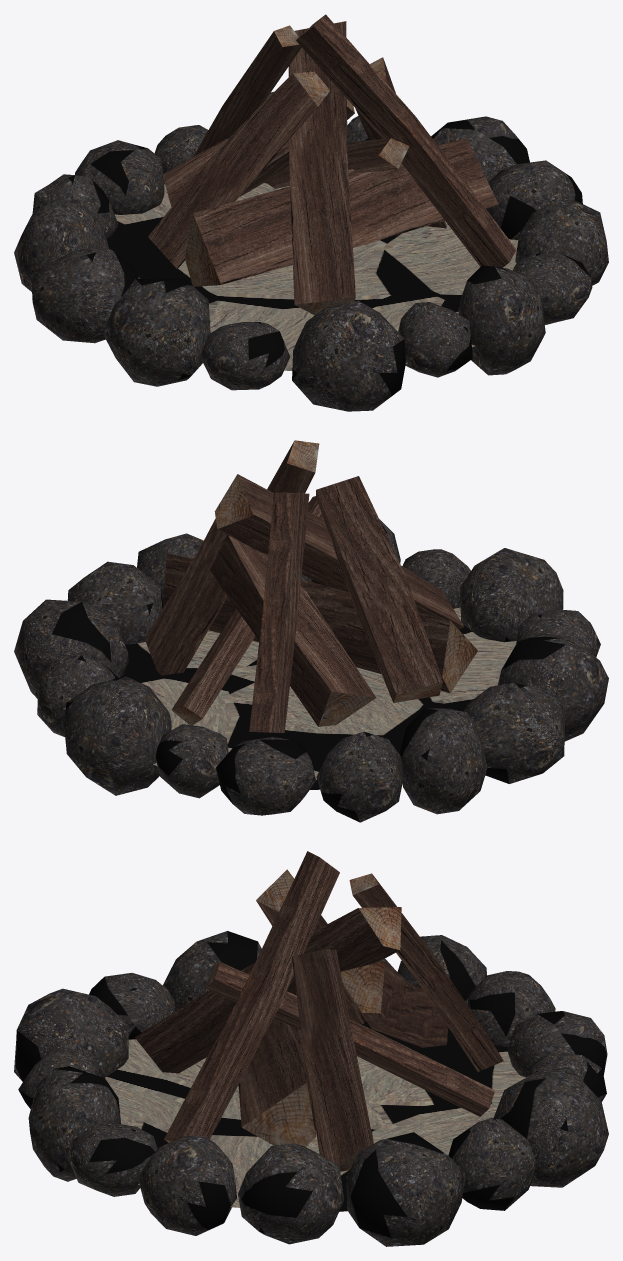
The model's file is campfire.glb.
3 renders of one model, top to bottom at view 1: azimuth 30°, elevation 25°; view 2: azimuth 150°, elevation 25°; view 3: azimuth 270°, elevation 25°, orthographic. The views are drawn at different scales.
Parts seen in each view (by area): view 1: $dummy_node; view 2: $dummy_node; view 3: $dummy_node.
Boxes of the visible parts, left/top/right/bottom form: $dummy_node: left=14, top=14, right=608, bottom=411; $dummy_node: left=14, top=440, right=608, bottom=822; $dummy_node: left=14, top=851, right=608, bottom=1246.
Size of the model in its own units: 249 by 130 by 238.
Materials: 3 (3 with a texture image).
